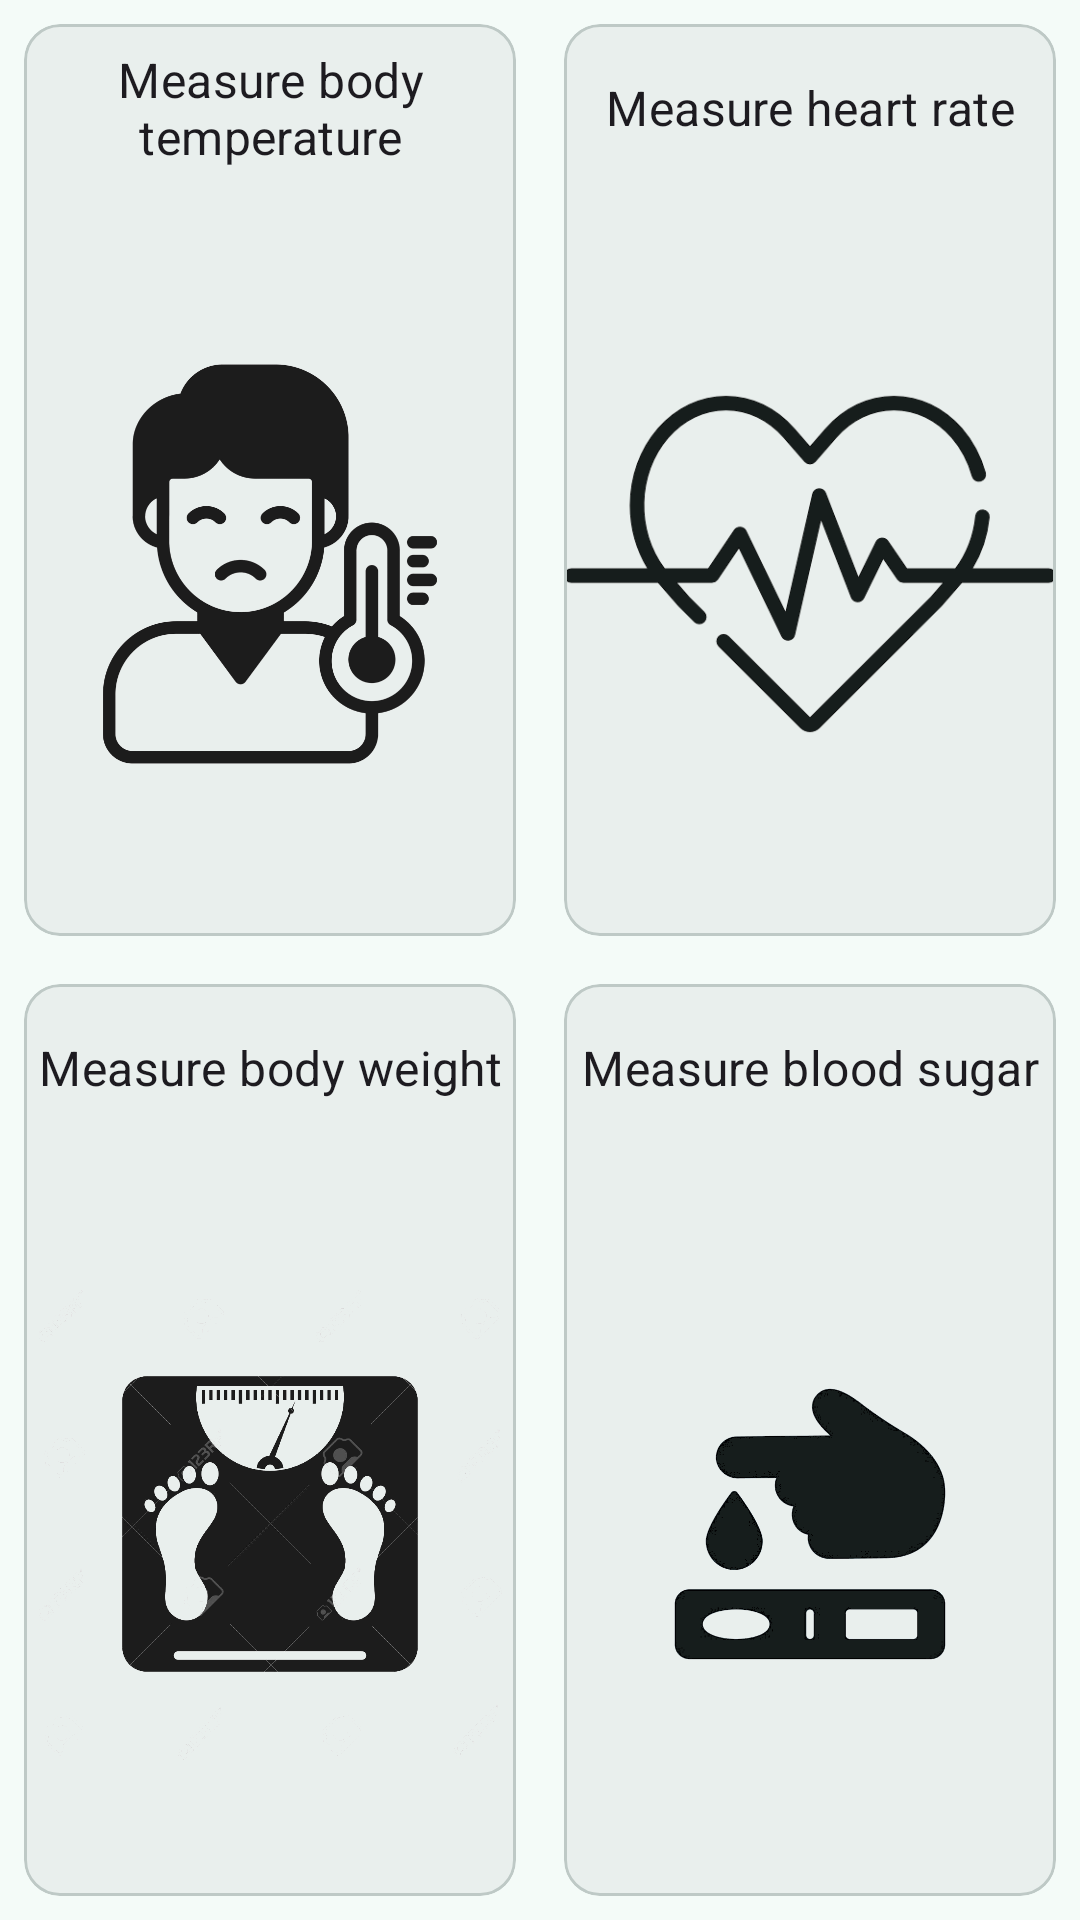

Screen size 1080px×1920px. Icon name, then its center in pixels as [x,y]:
glycemia: [810,1524]
